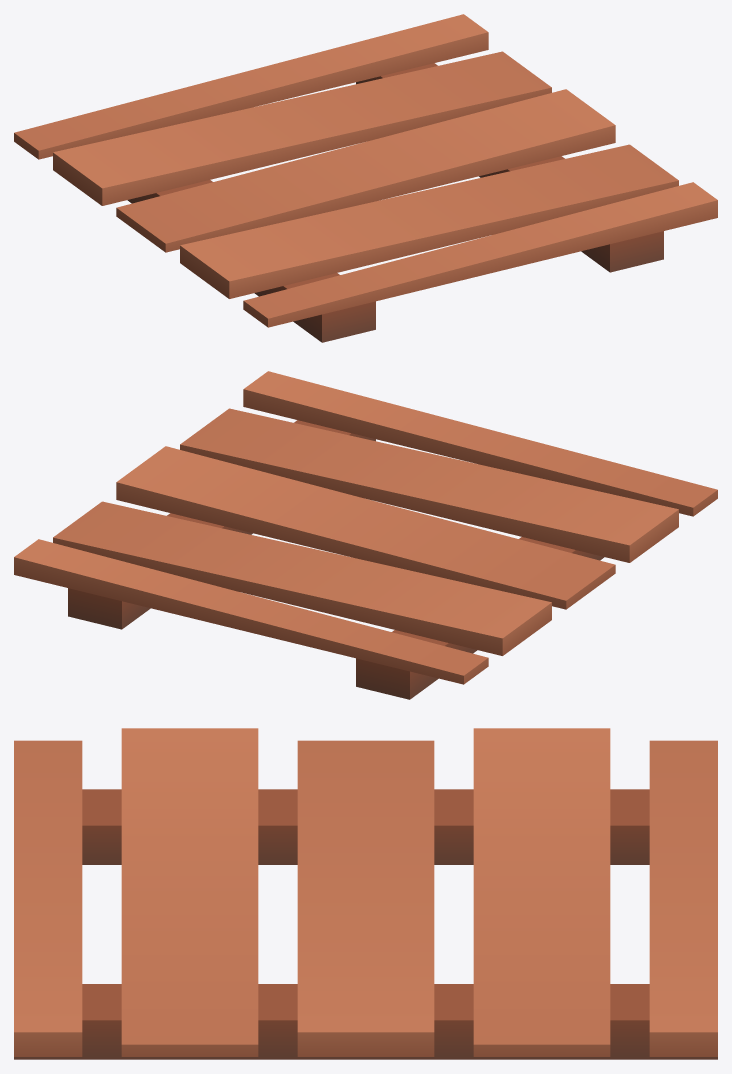
File: platform.glb
The picture shows the model from 3 angles, top to bottom: view 1: azimuth 30°, elevation 25°; view 2: azimuth 150°, elevation 25°; view 3: azimuth 270°, elevation 25°; orthographic projection. The views are drawn at different scales.
Visible parts, largest first — view 1: platform; view 2: platform; view 3: platform.
Boxes of the visible parts, x1,y1,x2,y2 form: platform: (14, 14, 717, 342); platform: (14, 371, 717, 699); platform: (14, 728, 717, 1059).
Bounding box in the file's own units: 1.99 × 0.195 × 1.95.
Materials: 1 (1 with a texture image).
